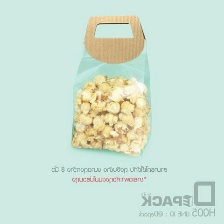snack: (63, 7, 162, 161)
